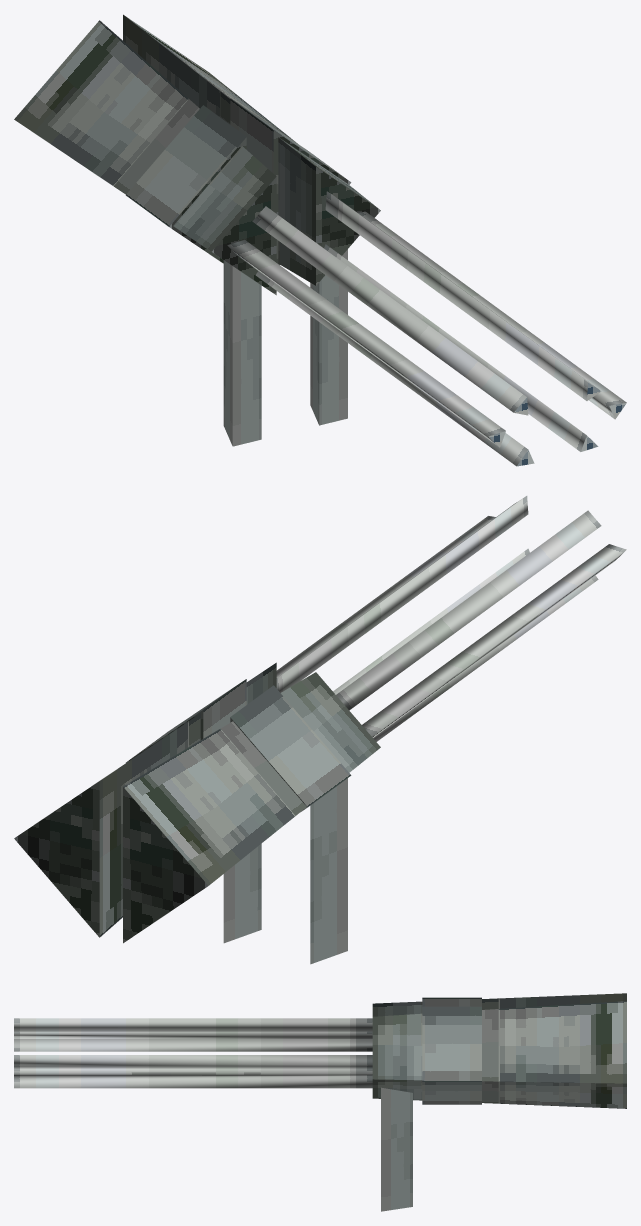
File: ywing_weapon2_s04_l2.fbx
The picture shows the model from 3 angles, top to bottom: view 1: azimuth 30°, elevation 25°; view 2: azimuth 150°, elevation 25°; view 3: azimuth 270°, elevation 25°; orthographic projection. The views are drawn at different scales.
Visible parts, largest first — view 1: mesh_node; view 2: mesh_node; view 3: mesh_node.
Part boxes in pixels (x1=…): mesh_node: x1=14, y1=14, x2=626, y2=466; mesh_node: x1=14, y1=496, x2=626, y2=964; mesh_node: x1=14, y1=993, x2=626, y2=1211.
Size of the model in its own units: 0.4805 by 0.6706 by 1.91.
1 material, 1 textured.
